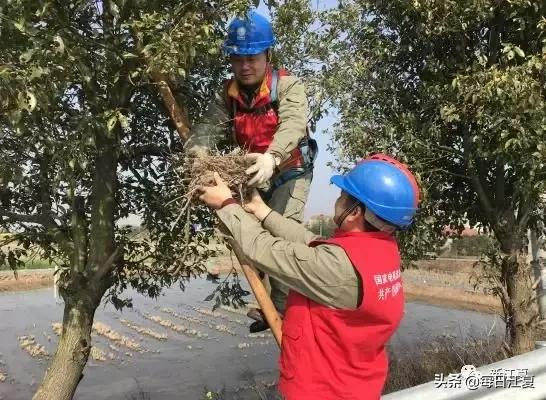bird-nest: (181, 152, 265, 199)
